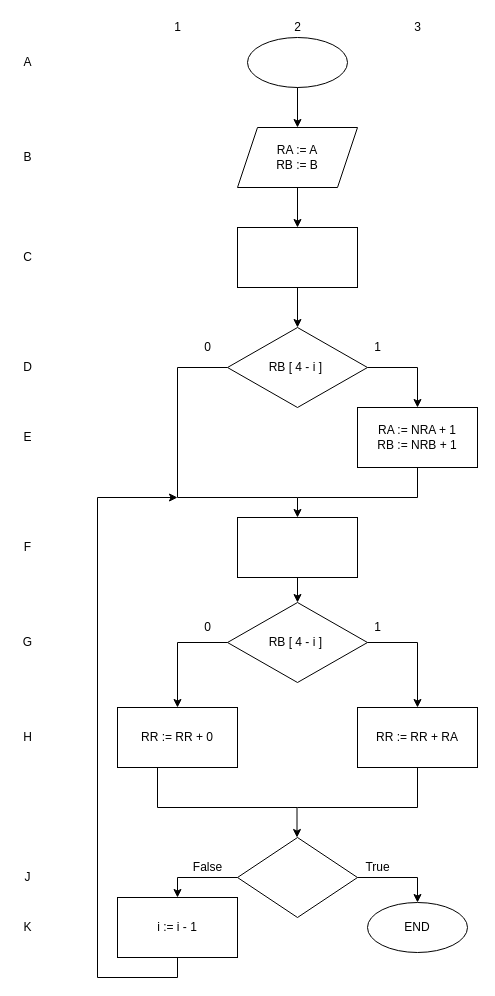
Image size: 495x996. Some labels were removed from this diagram. The shapes that lost their labels are listed below. From the top down, each one's box as (x1, y1, x2, y2) in pixels, then its label:
(246, 36, 348, 88): BEGIN
(236, 226, 358, 288): RR := 0 i := 4
(236, 516, 358, 578): RA := RA * 2^-1
(236, 836, 358, 918): i = 0
